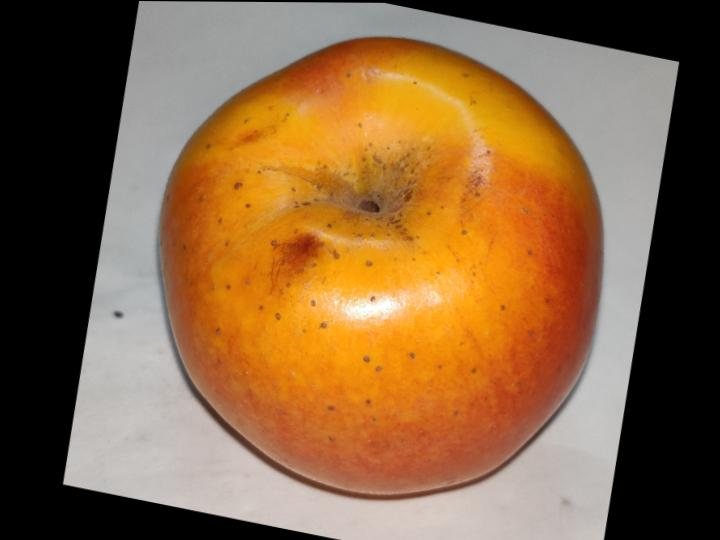apple: (158, 37, 601, 495)
surface_damage: (270, 233, 323, 286)
